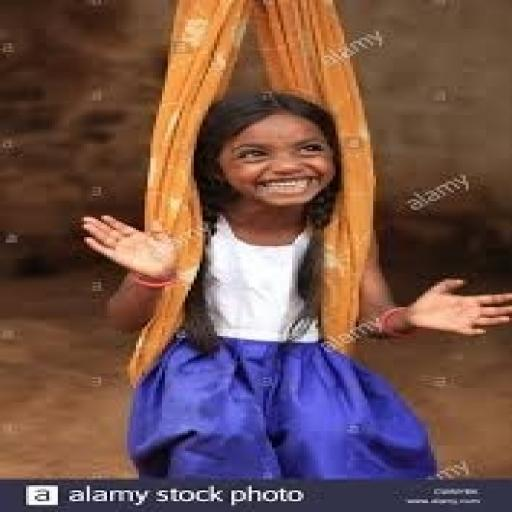clapping: (78, 88, 509, 480)
